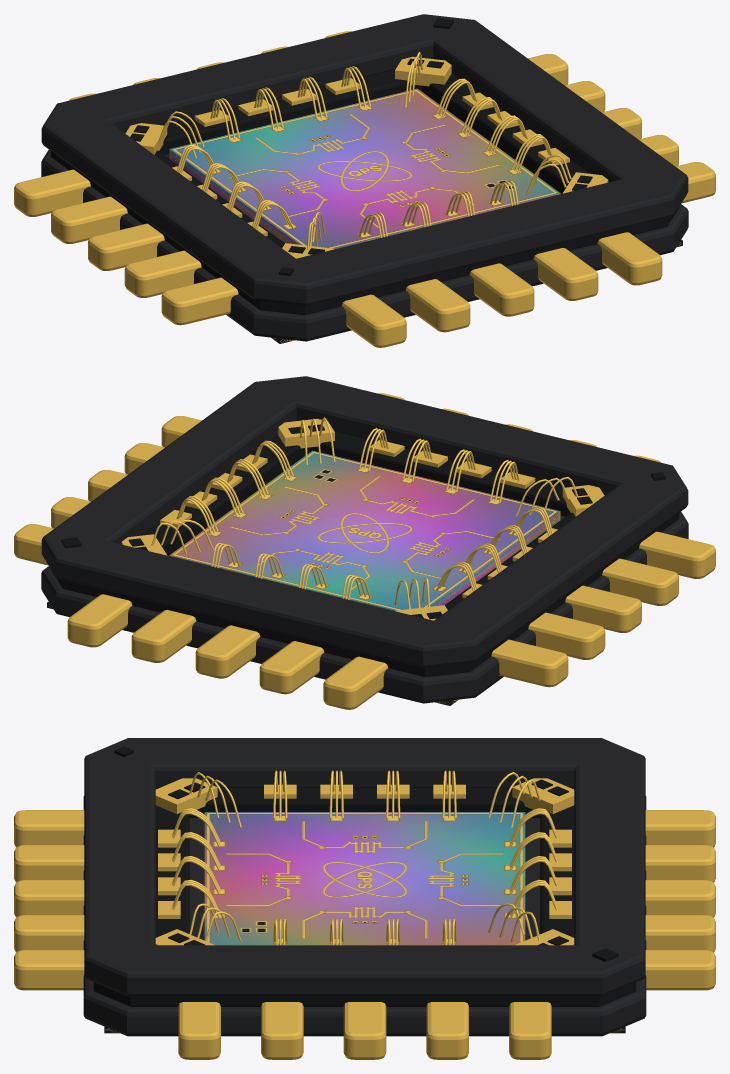
The model's file is chip-qps.glb.
3 renders of one model, top to bottom at view 1: azimuth 30°, elevation 25°; view 2: azimuth 150°, elevation 25°; view 3: azimuth 270°, elevation 25°, orthographic. The views are drawn at different scales.
Parts seen in each view (by area): view 1: Moldura_Superior_Preta, Die_Silicio_Quantico_QPS, Degrau_Interno_Cavidade, Micro_Fios_Ouro_WireBonds, Base_Encapsulamento_Preto, Chip_Quantico_QPS, Pino_Ouro_Lado2_5, Pino_Ouro_Lado2_4, Pino_Ouro_Lado2_2, Pino_Ouro_Lado2_1, Pino_Ouro_Lado2_3, Pino_Ouro_Lado1_5 (+12 smaller); view 2: Moldura_Superior_Preta, Die_Silicio_Quantico_QPS, Degrau_Interno_Cavidade, Micro_Fios_Ouro_WireBonds, Base_Encapsulamento_Preto, Chip_Quantico_QPS, Pino_Ouro_Lado2_1, Pino_Ouro_Lado2_2, Pino_Ouro_Lado2_4, Pino_Ouro_Lado2_5, Pino_Ouro_Lado2_3, Pino_Ouro_Lado3_1 (+12 smaller); view 3: Moldura_Superior_Preta, Die_Silicio_Quantico_QPS, Degrau_Interno_Cavidade, Base_Encapsulamento_Preto, Micro_Fios_Ouro_WireBonds, Chip_Quantico_QPS, Pino_Ouro_Lado1_5, Pino_Ouro_Lado3_1, Pino_Ouro_Lado4_3, Pino_Ouro_Lado1_1, Pino_Ouro_Lado3_5, Pino_Ouro_Lado1_2 (+13 smaller).
Part boxes in pixels (bbox=[...]): Moldura_Superior_Preta: bbox=[41, 14, 688, 305]; Die_Silicio_Quantico_QPS: bbox=[169, 88, 560, 248]; Degrau_Interno_Cavidade: bbox=[50, 69, 679, 314]; Micro_Fios_Ouro_WireBonds: bbox=[158, 52, 571, 249]; Base_Encapsulamento_Preto: bbox=[41, 92, 688, 341]; Chip_Quantico_QPS: bbox=[172, 78, 569, 236]; Pino_Ouro_Lado2_5: bbox=[161, 277, 238, 325]; Pino_Ouro_Lado2_4: bbox=[124, 250, 201, 297]; Pino_Ouro_Lado2_2: bbox=[51, 196, 127, 243]; Pino_Ouro_Lado2_1: bbox=[14, 169, 90, 216]; Pino_Ouro_Lado2_3: bbox=[88, 223, 164, 270]; Pino_Ouro_Lado1_5: bbox=[597, 232, 662, 285]; Moldura_Superior_Preta: bbox=[41, 376, 688, 667]; Die_Silicio_Quantico_QPS: bbox=[169, 450, 560, 610]; Degrau_Interno_Cavidade: bbox=[50, 431, 679, 676]; Micro_Fios_Ouro_WireBonds: bbox=[151, 417, 578, 608]; Base_Encapsulamento_Preto: bbox=[41, 456, 688, 703]; Chip_Quantico_QPS: bbox=[160, 440, 557, 598]; Pino_Ouro_Lado2_1: bbox=[491, 639, 568, 687]; Pino_Ouro_Lado2_2: bbox=[528, 612, 605, 659]; Pino_Ouro_Lado2_4: bbox=[602, 558, 678, 605]; Pino_Ouro_Lado2_5: bbox=[639, 531, 715, 578]; Pino_Ouro_Lado2_3: bbox=[565, 585, 641, 632]; Pino_Ouro_Lado3_1: bbox=[67, 594, 132, 647]; Moldura_Superior_Preta: bbox=[84, 738, 645, 996]; Die_Silicio_Quantico_QPS: bbox=[204, 812, 525, 945]; Degrau_Interno_Cavidade: bbox=[93, 787, 636, 1006]; Base_Encapsulamento_Preto: bbox=[83, 796, 646, 1036]; Micro_Fios_Ouro_WireBonds: bbox=[172, 770, 557, 945]; Chip_Quantico_QPS: bbox=[158, 784, 571, 918]; Pino_Ouro_Lado1_5: bbox=[14, 950, 84, 990]; Pino_Ouro_Lado3_1: bbox=[645, 950, 715, 990]; Pino_Ouro_Lado4_3: bbox=[343, 1002, 386, 1059]; Pino_Ouro_Lado1_1: bbox=[14, 810, 84, 847]; Pino_Ouro_Lado3_5: bbox=[645, 810, 715, 847]; Pino_Ouro_Lado1_2: bbox=[14, 845, 84, 882].
Bounding box in the file's own units: 0.056 × 0.00725 × 0.056.
7 materials, 2 textured.
